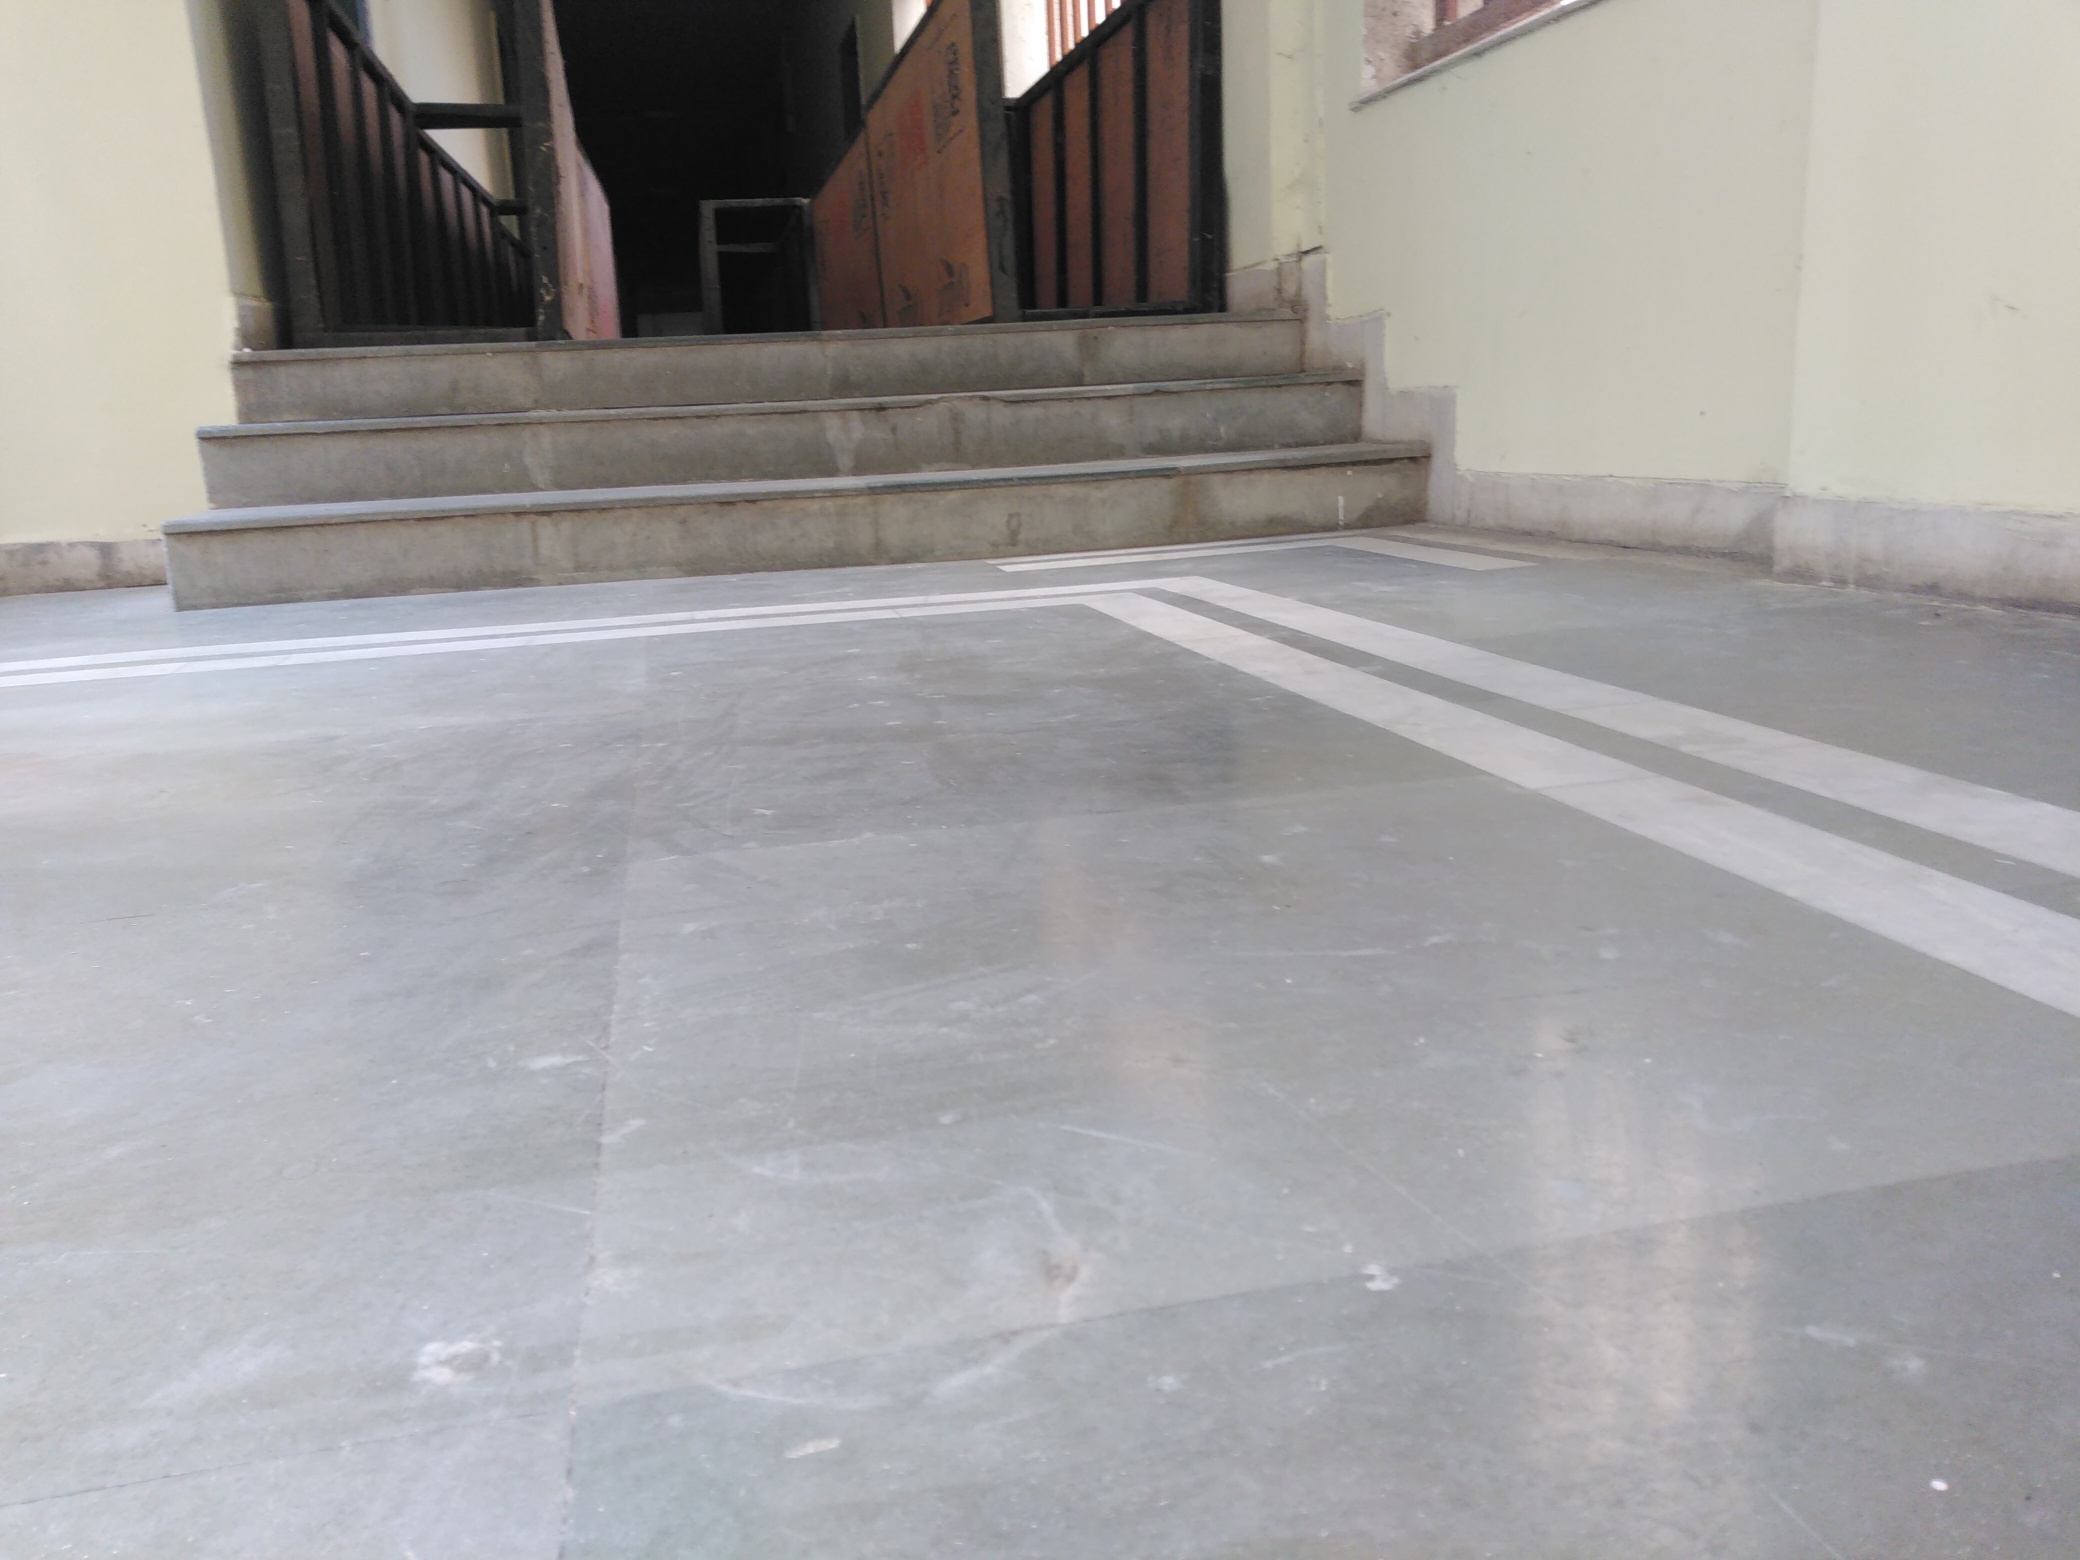stairs_up: (193, 346, 1409, 547)
